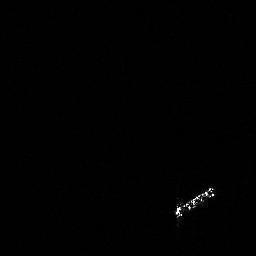ship: (169, 182, 215, 224)
